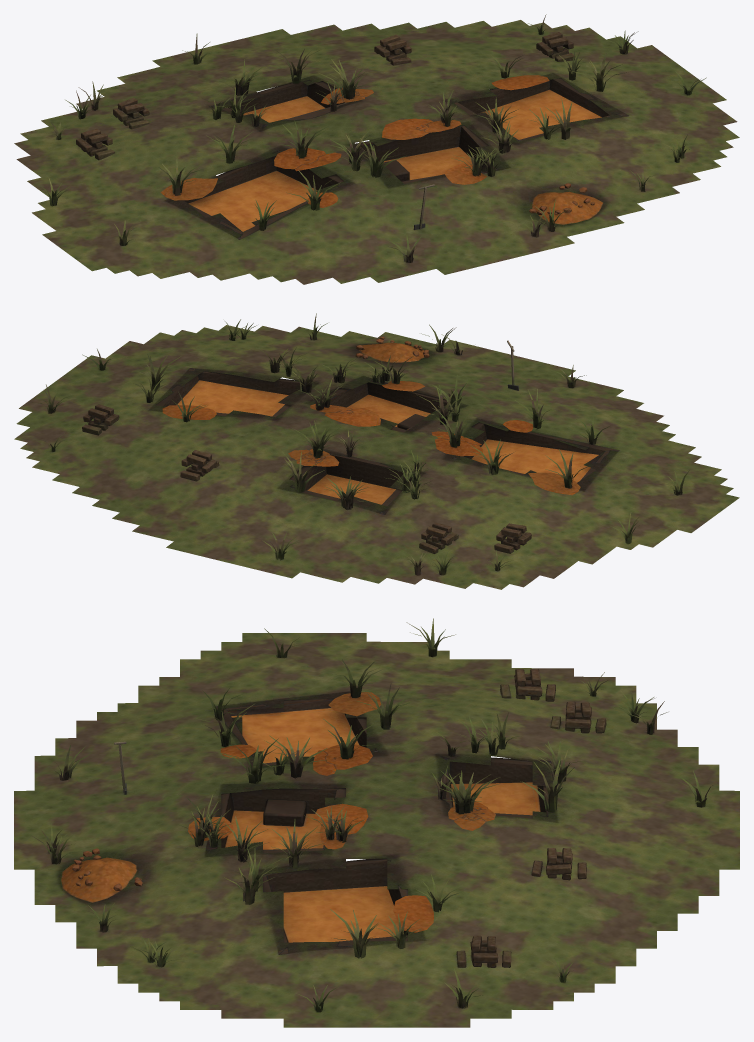
The model's file is bog_iron.glb.
3 renders of one model, top to bottom at view 1: azimuth 30°, elevation 25°; view 2: azimuth 150°, elevation 25°; view 3: azimuth 270°, elevation 25°, orthographic. The views are drawn at different scales.
Parts seen in each view (by area): view 1: bog_iron_LOD0; view 2: bog_iron_LOD0; view 3: bog_iron_LOD0.
Boxes of the visible parts, x1,y1,x2,y2 form: bog_iron_LOD0: (14, 14, 739, 284); bog_iron_LOD0: (14, 313, 739, 589); bog_iron_LOD0: (14, 618, 739, 1027).
Size of what is drawn, in the model's own units: 14.85 by 1.2 by 11.55.
1 material, 1 textured.
